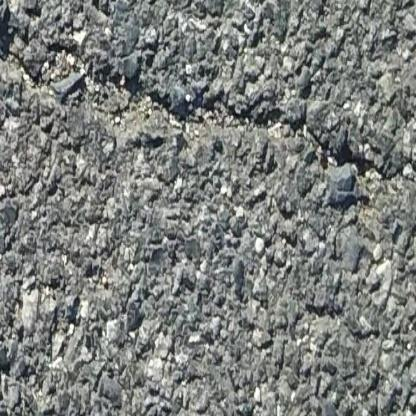Cracks: (0, 22, 416, 241)
